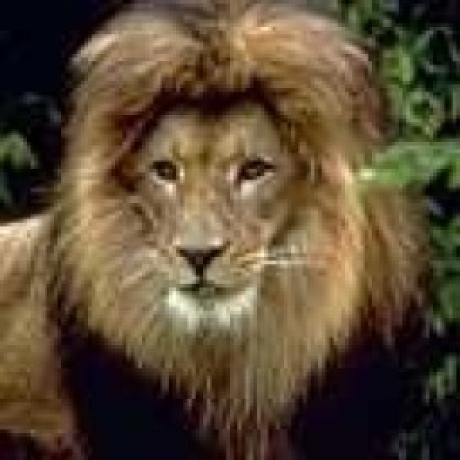Lion: (0, 0, 431, 460)
